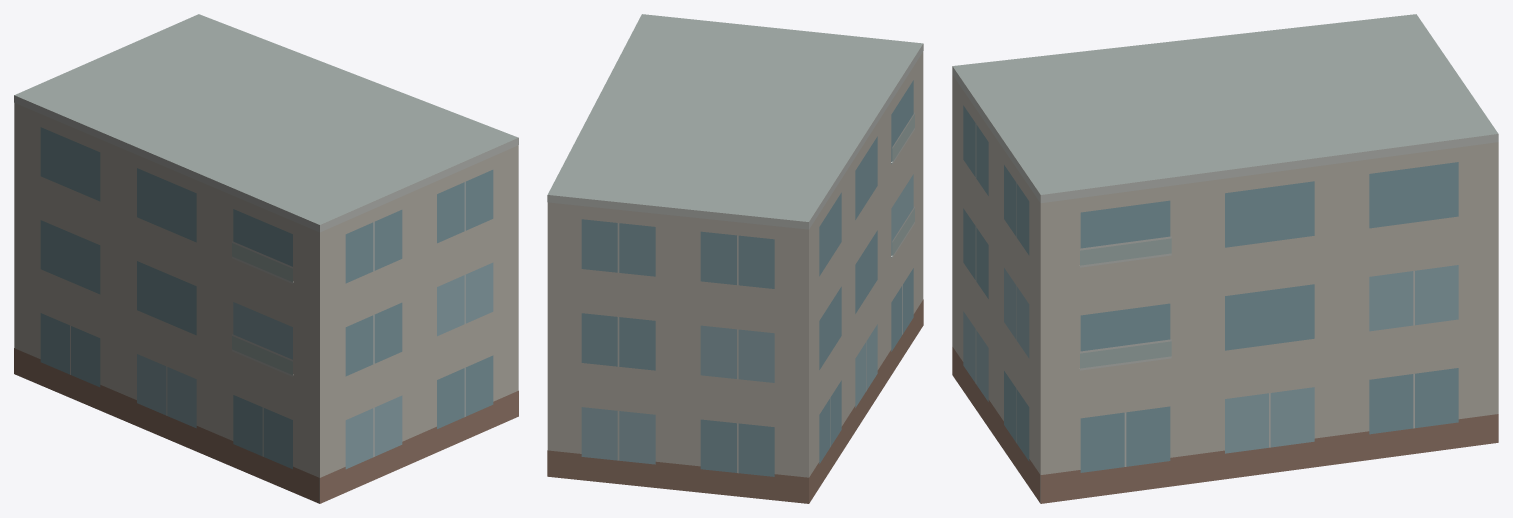
Rendered from survey-upis-32687128.glb.
3 views of the same model, side by side, from view 1: azimuth 30°, elevation 25°; view 2: azimuth 150°, elevation 25°; view 3: azimuth 270°, elevation 25° (orthographic). The views are drawn at different scales.
Visible parts, largest first — view 1: survey-upis-32687128.tmp; view 2: survey-upis-32687128.tmp; view 3: survey-upis-32687128.tmp.
Boxes of the visible parts, <box> form: survey-upis-32687128.tmp: <box>14,14,518,503</box>; survey-upis-32687128.tmp: <box>547,14,923,503</box>; survey-upis-32687128.tmp: <box>952,14,1498,503</box>.
Bounding box in the file's own units: 11.51 × 9.15 × 14.68.
